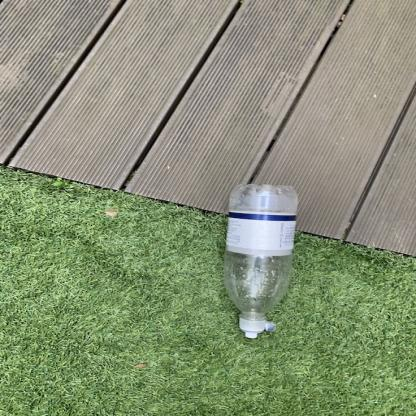trash: (224, 182, 302, 345)
